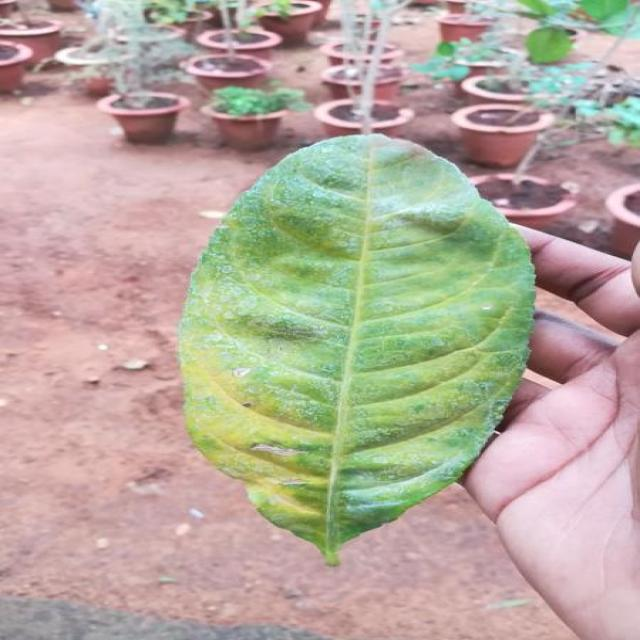badipala: (180, 135, 533, 564)
defectedbadipala: (180, 238, 363, 564)
